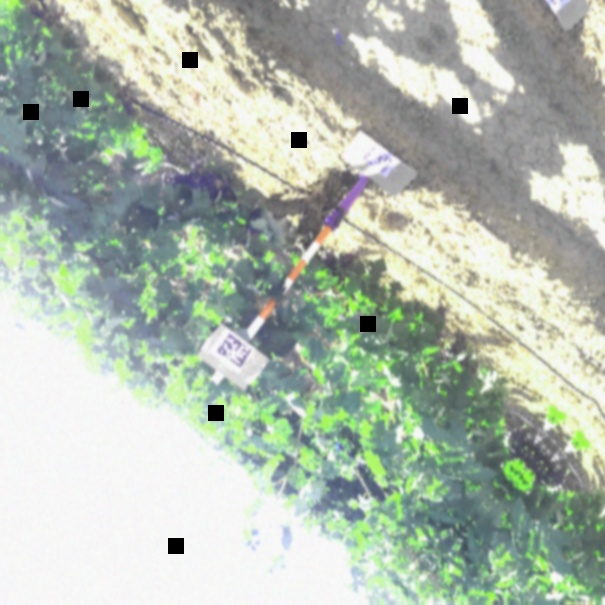QR: (211, 329, 256, 374), (360, 144, 394, 178)
